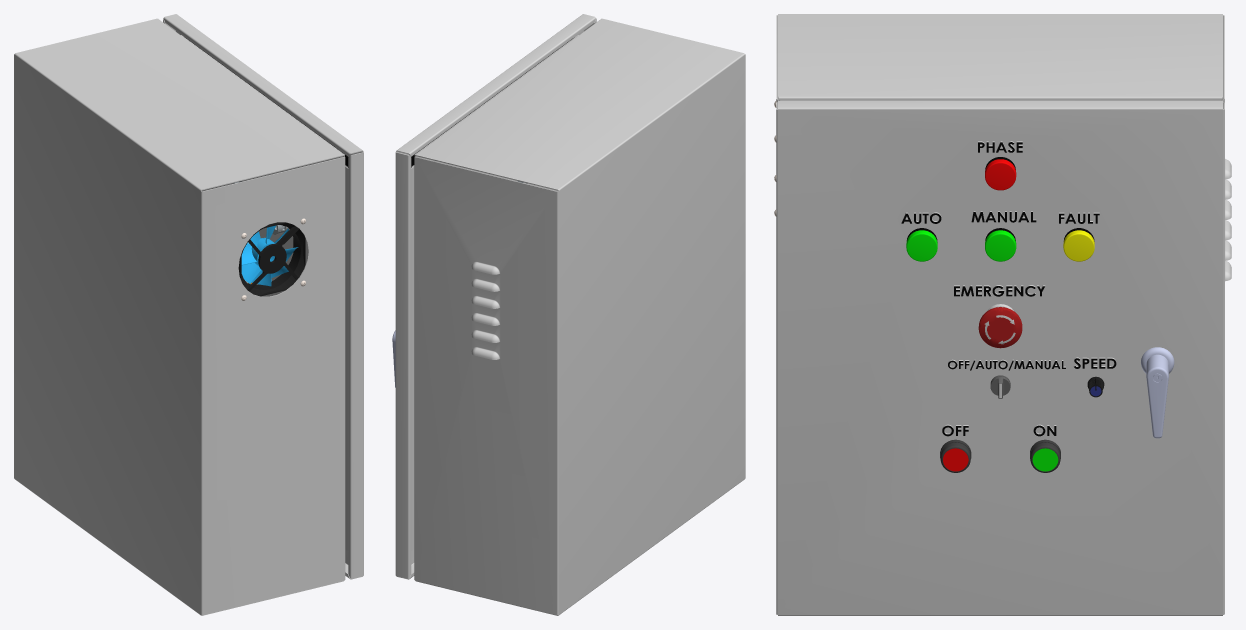
The model's file is control cabinet.fbx.
3 renders of one model, left to right at view 1: azimuth 30°, elevation 25°; view 2: azimuth 150°, elevation 25°; view 3: azimuth 270°, elevation 25°, orthographic. The views are drawn at different scales.
Visible parts, largest first — view 1: cabinets2, Assem cabinets, CPU Fan; view 2: cabinets2, Assem cabinets; view 3: Assem cabinets, cabinets2, tay nam cua, E Stop Button, ConjuntoYellow, ConjuntoGreen, ConjuntoGreen.001, ConjuntoRed, Illuminated Push Button Switch LA38-11D RED_Green, Illuminated Push Button Switch LA38-11D_Green.
Boxes of the visible parts, <box> form: cabinets2: <box>14,18,348,615</box>; Assem cabinets: <box>163,14,363,579</box>; CPU Fan: <box>238,222,305,296</box>; cabinets2: <box>411,18,745,615</box>; Assem cabinets: <box>395,14,596,579</box>; Assem cabinets: <box>776,100,1224,615</box>; cabinets2: <box>776,14,1231,281</box>; tay nam cua: <box>1141,347,1174,438</box>; E Stop Button: <box>978,304,1022,348</box>; ConjuntoYellow: <box>1063,228,1094,261</box>; ConjuntoGreen: <box>906,228,937,261</box>; ConjuntoGreen.001: <box>985,228,1016,261</box>; ConjuntoRed: <box>985,157,1016,190</box>; Illuminated Push Button Switch LA38-11D RED_Green: <box>940,439,971,472</box>; Illuminated Push Button Switch LA38-11D_Green: <box>1030,439,1060,472</box>.
Size of the model in its own units: 23.3 by 50 by 40.77.
